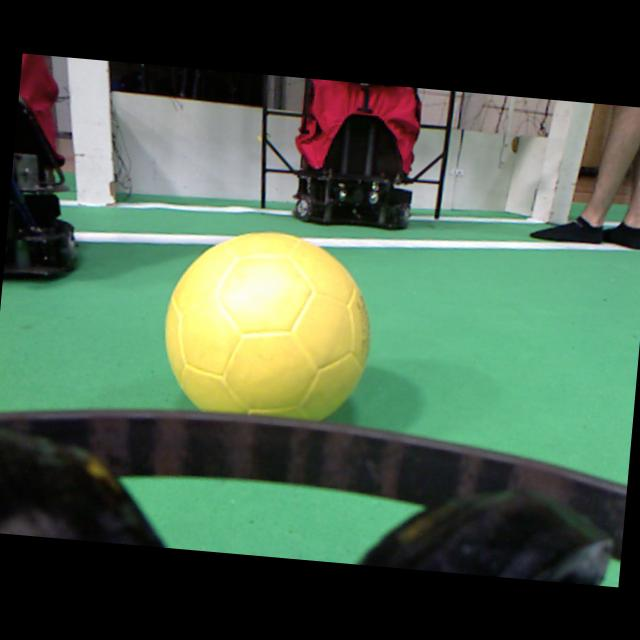ball: (165, 232, 368, 418)
goal: (531, 100, 592, 223), (66, 57, 114, 205), (549, 101, 592, 223), (531, 100, 572, 221)
robot: (3, 53, 75, 276)
